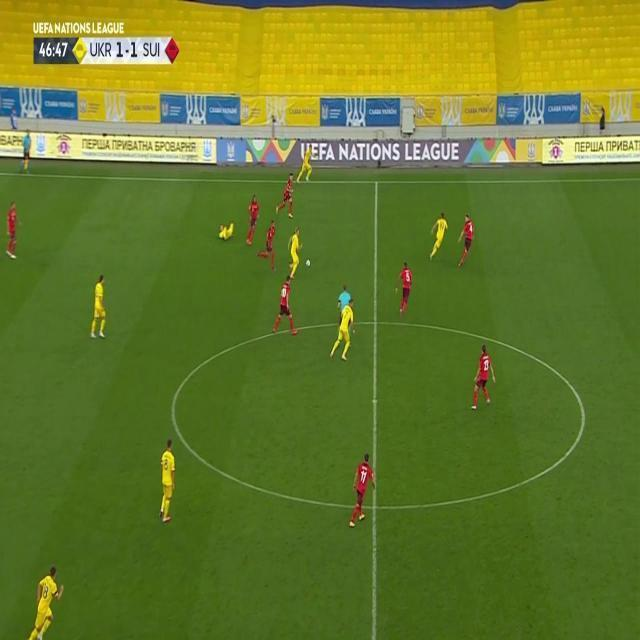ball: (305, 258, 311, 267)
player: (27, 565, 66, 638), (349, 452, 378, 527), (471, 343, 497, 411), (272, 273, 298, 338), (158, 437, 177, 524), (331, 301, 356, 363), (89, 274, 109, 339), (394, 260, 414, 317), (3, 200, 21, 260), (456, 214, 476, 268), (258, 220, 278, 273), (428, 212, 450, 260), (275, 172, 295, 219), (244, 194, 261, 248), (287, 227, 303, 283), (297, 142, 314, 183), (218, 219, 234, 241)
referee: (19, 129, 32, 175), (337, 285, 352, 317)
